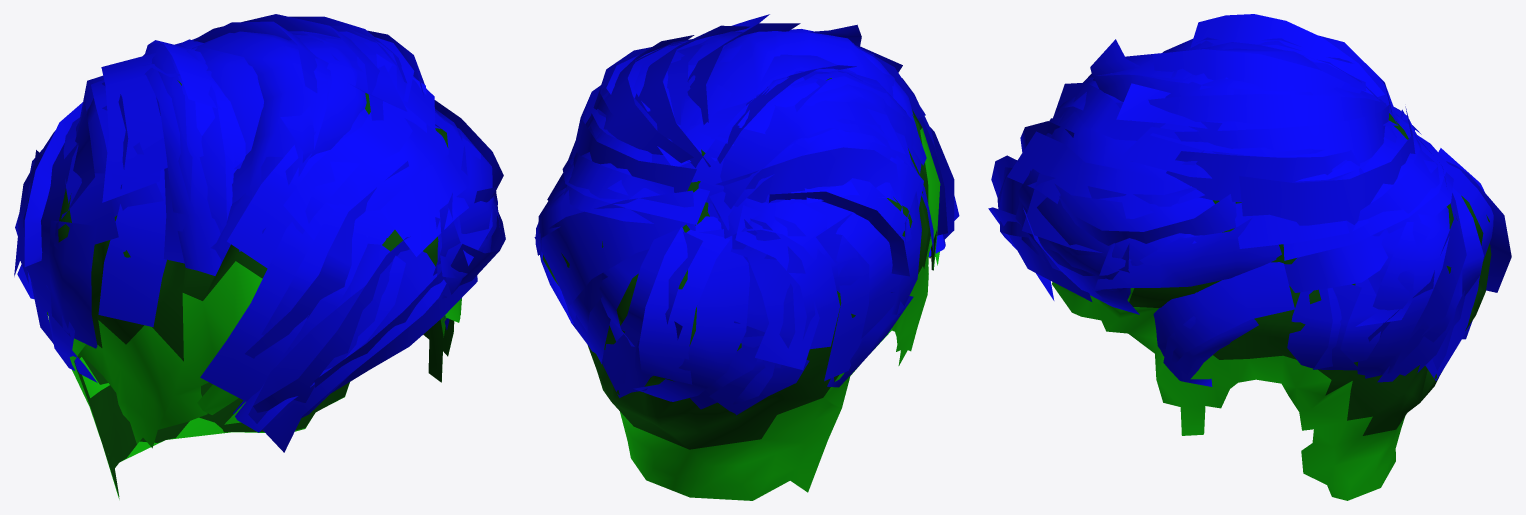
The model's file is hair_004.obj.
3 renders of one model, left to right at view 1: azimuth 30°, elevation 25°; view 2: azimuth 150°, elevation 25°; view 3: azimuth 270°, elevation 25°, orthographic. The views are drawn at different scales.
Size of the model in its own units: 19.08 by 21.83 by 24.17.
